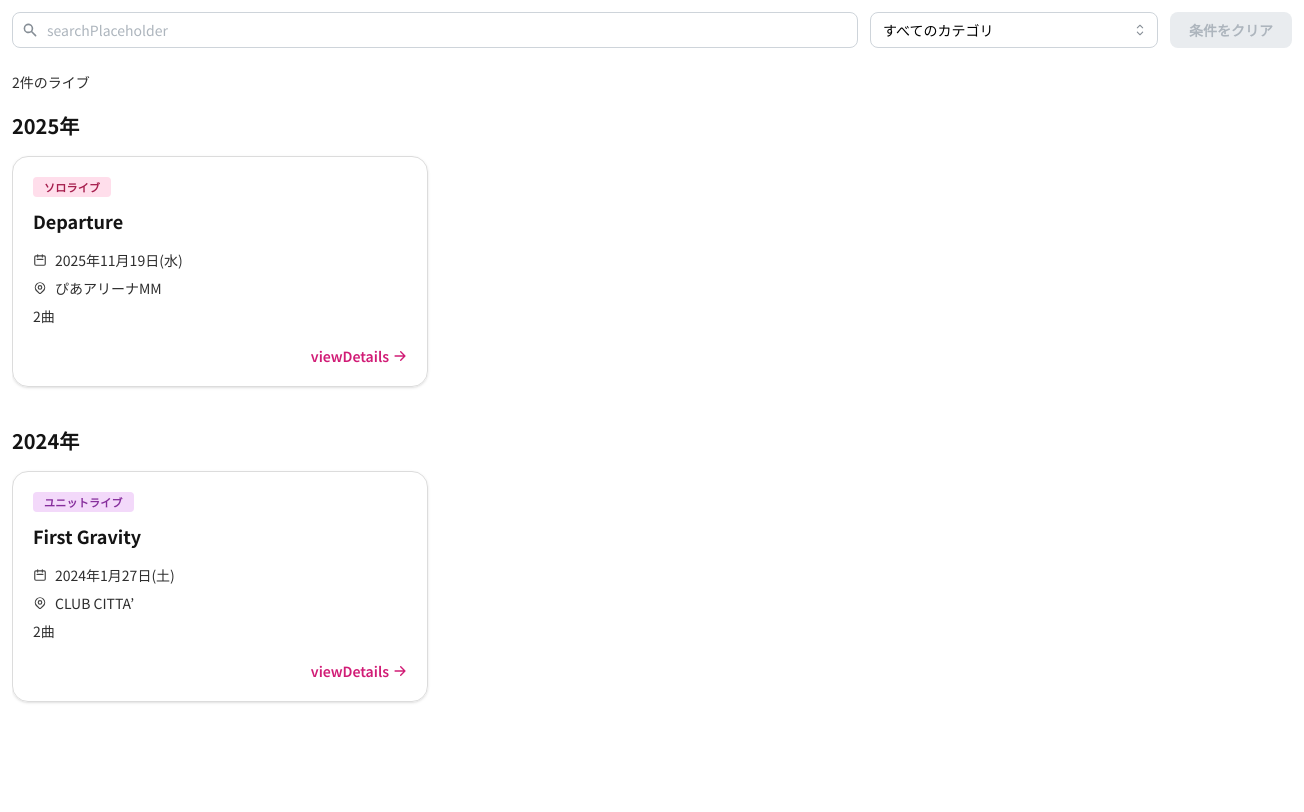
it: LivesClient › 検索入力をURLへ反映し、該当なしを表示する
Type "存在しないライブ" into the field named "ライブを検索" at (435, 30), box [12,12,858,48]
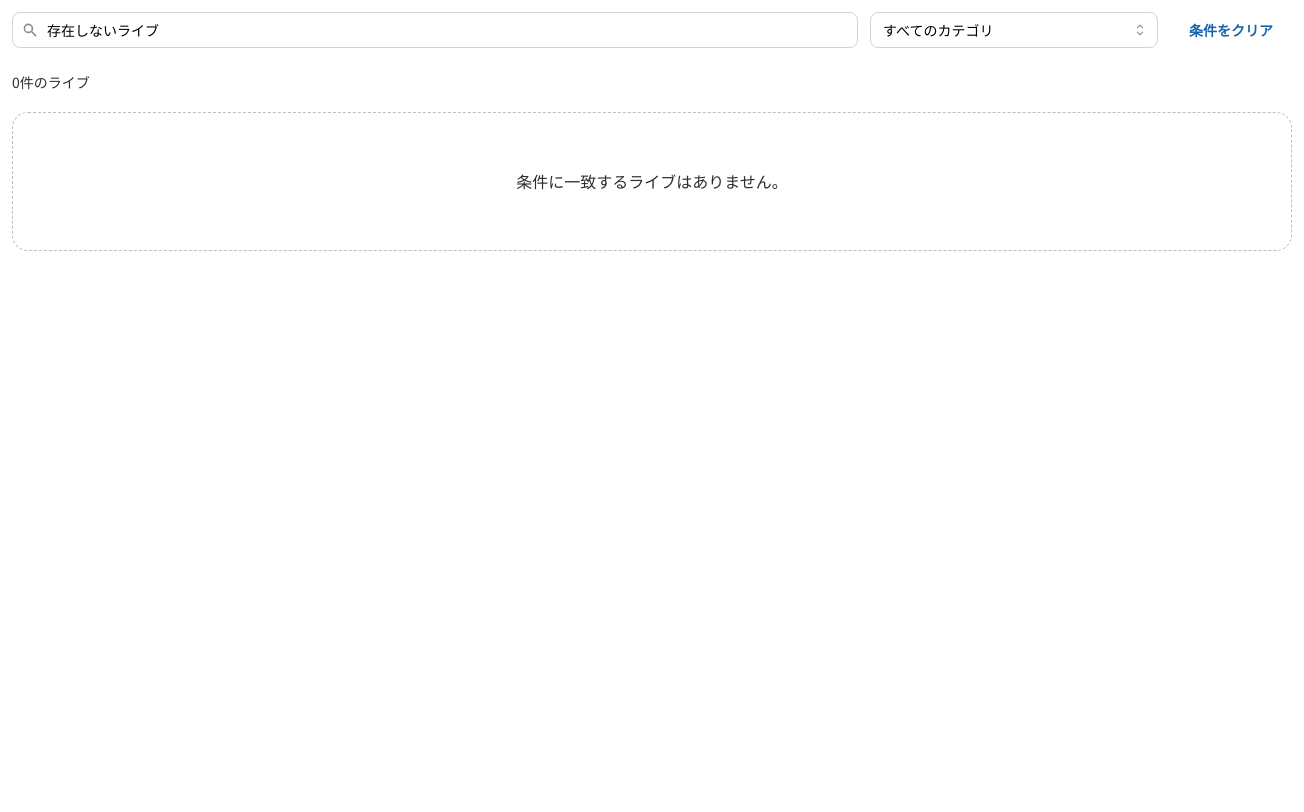
Check: the text "条件に一致するライブはありません。" is shown, box [12,112,1292,251]
